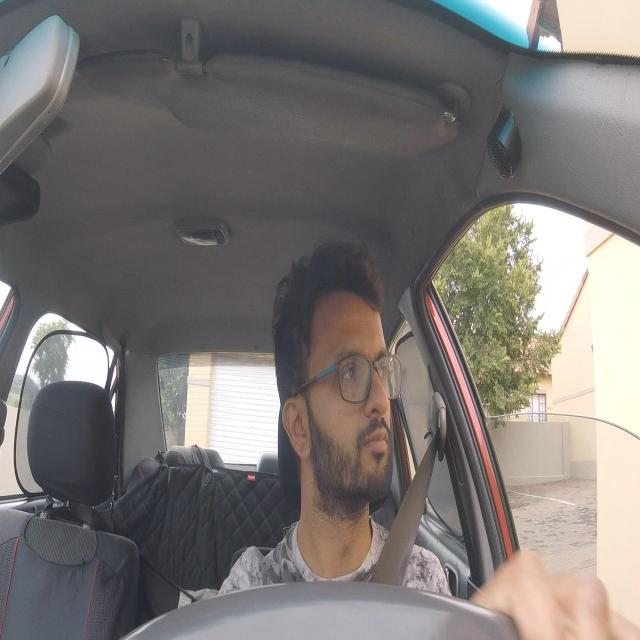open: (334, 343, 365, 397), (370, 342, 390, 396)
